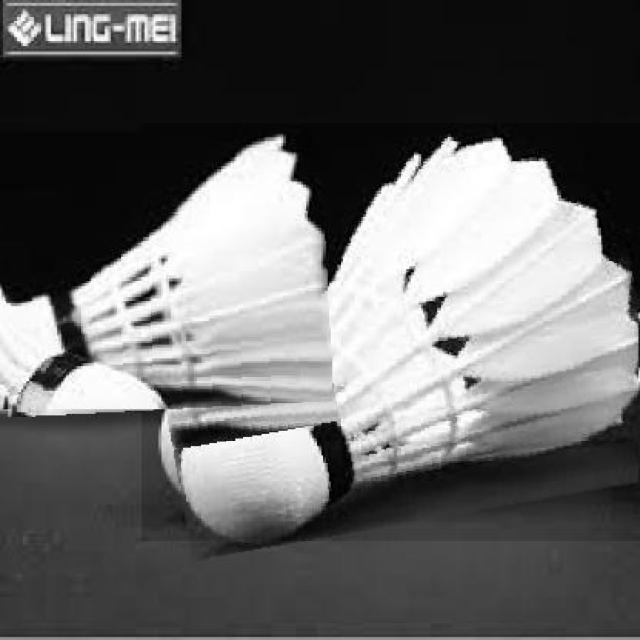Shuttlecock: (141, 123, 640, 540), (0, 131, 329, 412)
